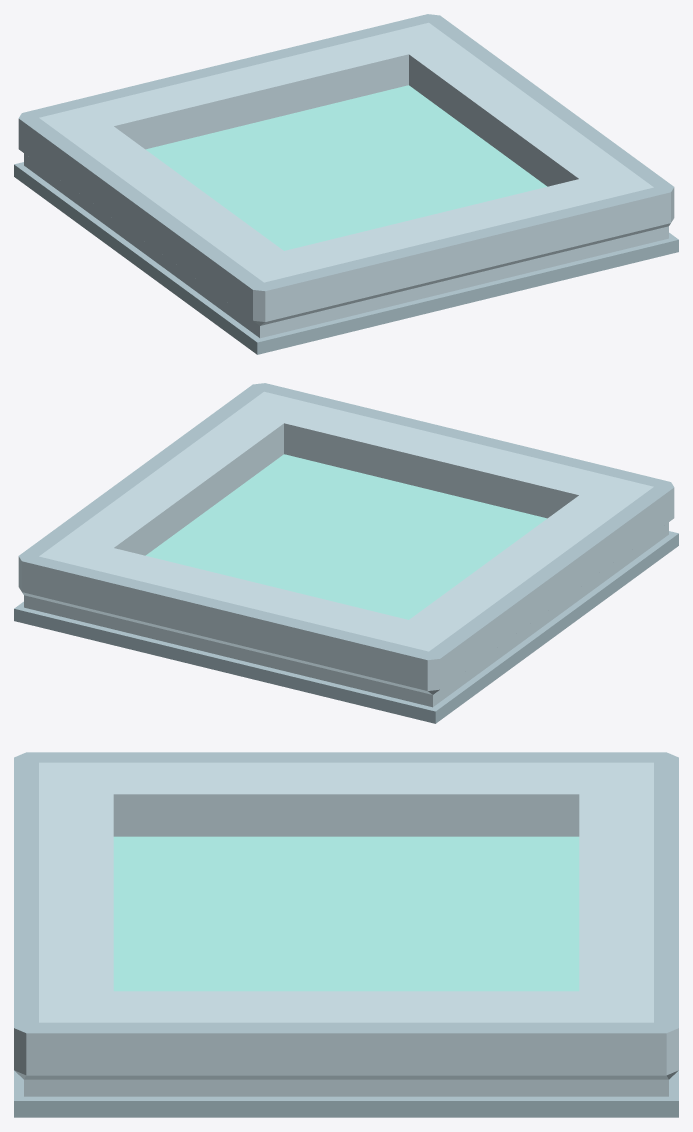
Rendered from fountainSquare.fbx.
3 views of the same model, one above another, from view 1: azimuth 30°, elevation 25°; view 2: azimuth 150°, elevation 25°; view 3: azimuth 270°, elevation 25° (orthographic). The views are drawn at different scales.
Visible parts, largest first — view 1: fountainSquare, fountainSquare.001; view 2: fountainSquare, fountainSquare.001; view 3: fountainSquare, fountainSquare.001.
Part boxes in pixels (<box>): fountainSquare: <box>14,14,678,354</box>; fountainSquare.001: <box>145,85,547,250</box>; fountainSquare: <box>14,383,678,723</box>; fountainSquare.001: <box>145,454,547,619</box>; fountainSquare: <box>14,752,678,1117</box>; fountainSquare.001: <box>113,836,579,991</box>.
Size of the model in its own units: 200 by 28 by 200.
